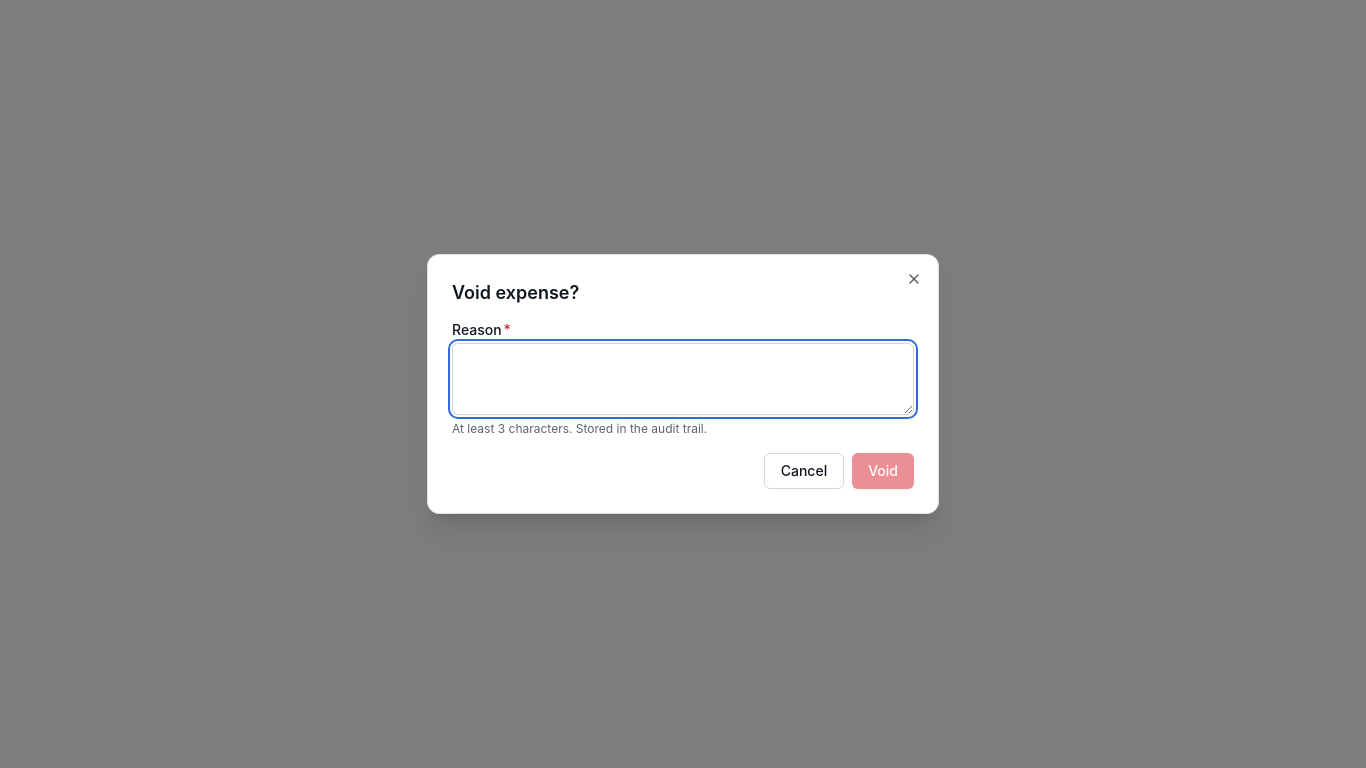
Test case: ConfirmDialog › requires a reason before confirming
The width and height of the screenshot is (1366, 768).
Later steps or results of the test are not shown.
Expected: the button "Void" is disabled, x1=852 y1=453 x2=914 y2=489
Type "Duplicate entry" into the text box labelled "Reason" at [683, 379], box x1=452 y1=343 x2=914 y2=415
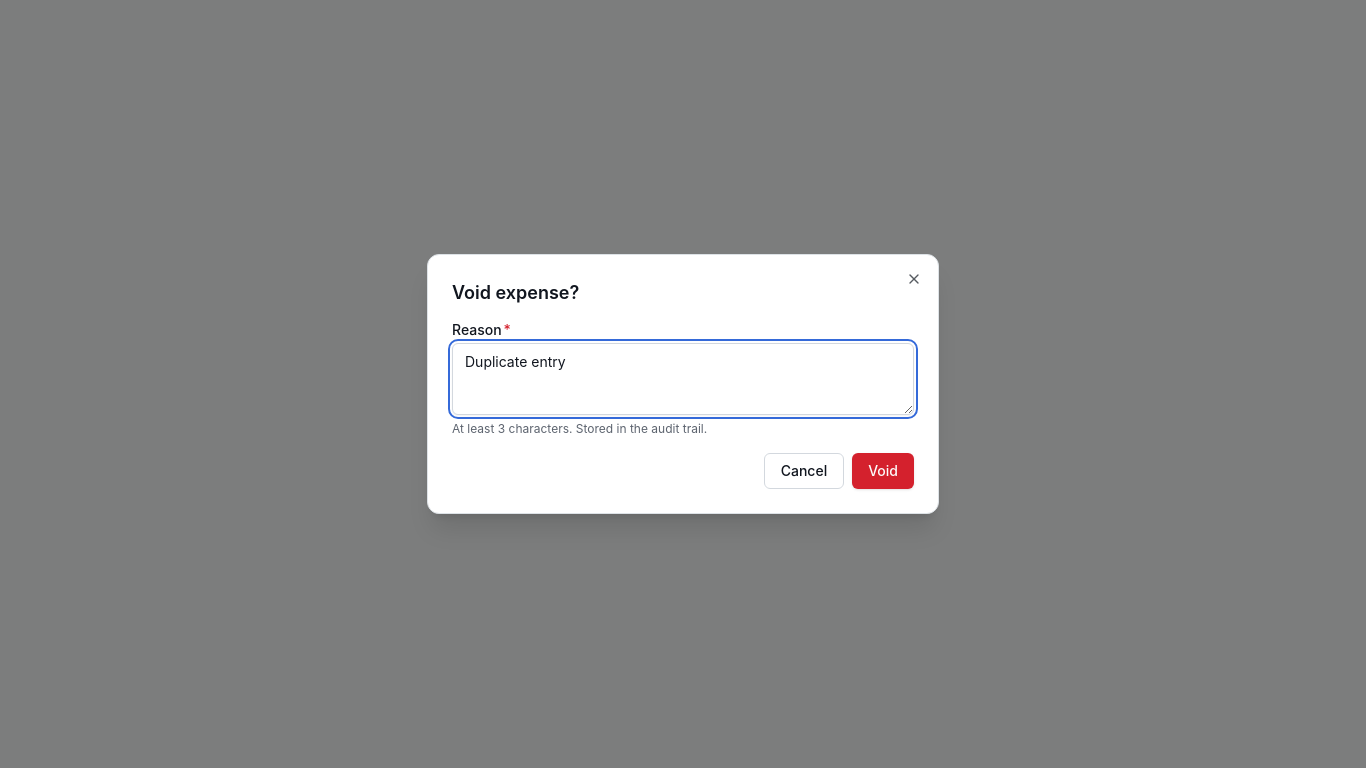
Now the button "Void" is enabled, box x1=852 y1=453 x2=914 y2=489
